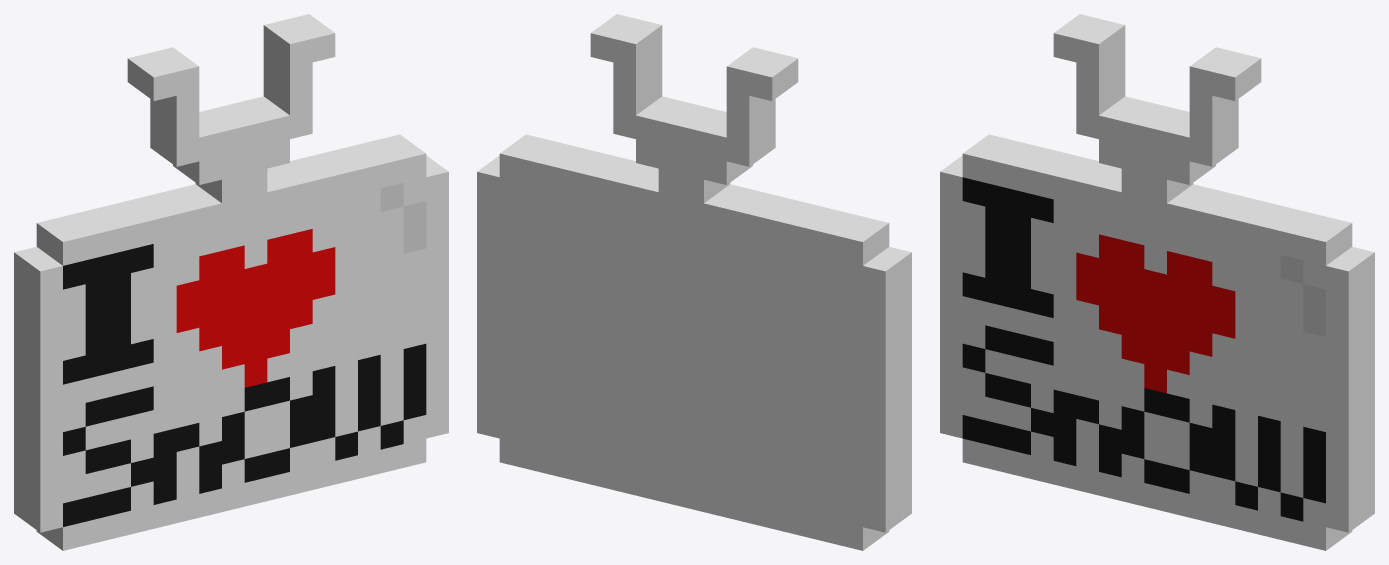
The model's file is medallion.obj.
3 views of the same model, side by side, from view 1: azimuth 30°, elevation 25°; view 2: azimuth 150°, elevation 25°; view 3: azimuth 330°, elevation 25° (orthographic).
Size of the model in its own units: 1.8 by 1.9 by 0.2.
1 material, 1 textured.
